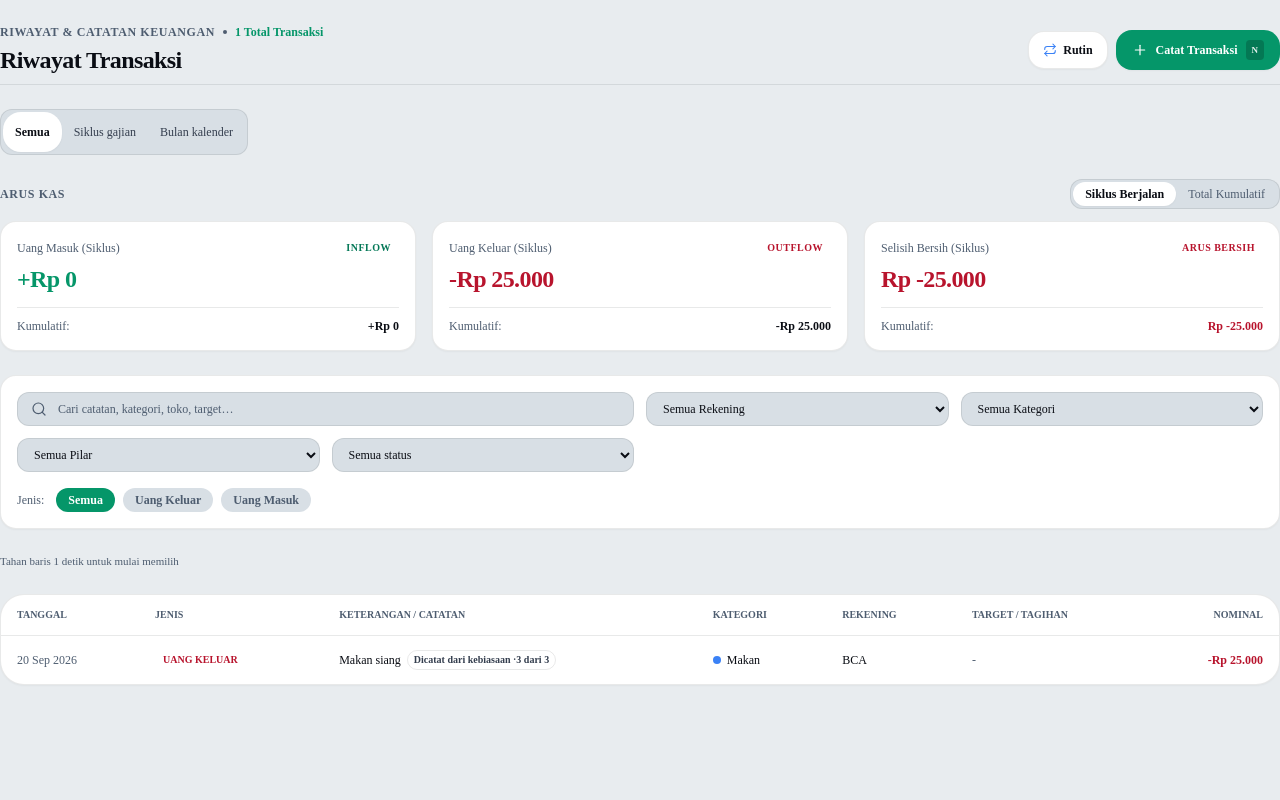
Test: Ledger provenance and reimbursements › labels a habit-recorded row and explains its basis in the dialog
This screenshot has width=1280, height=800.
Check: the text "Dicatat dari kebiasaan · 3 dari 3" is shown, box [407,650,556,670]
Click the row named "Buka atau ubah: Makan siang": (47, 660) [1,635,1279,684]
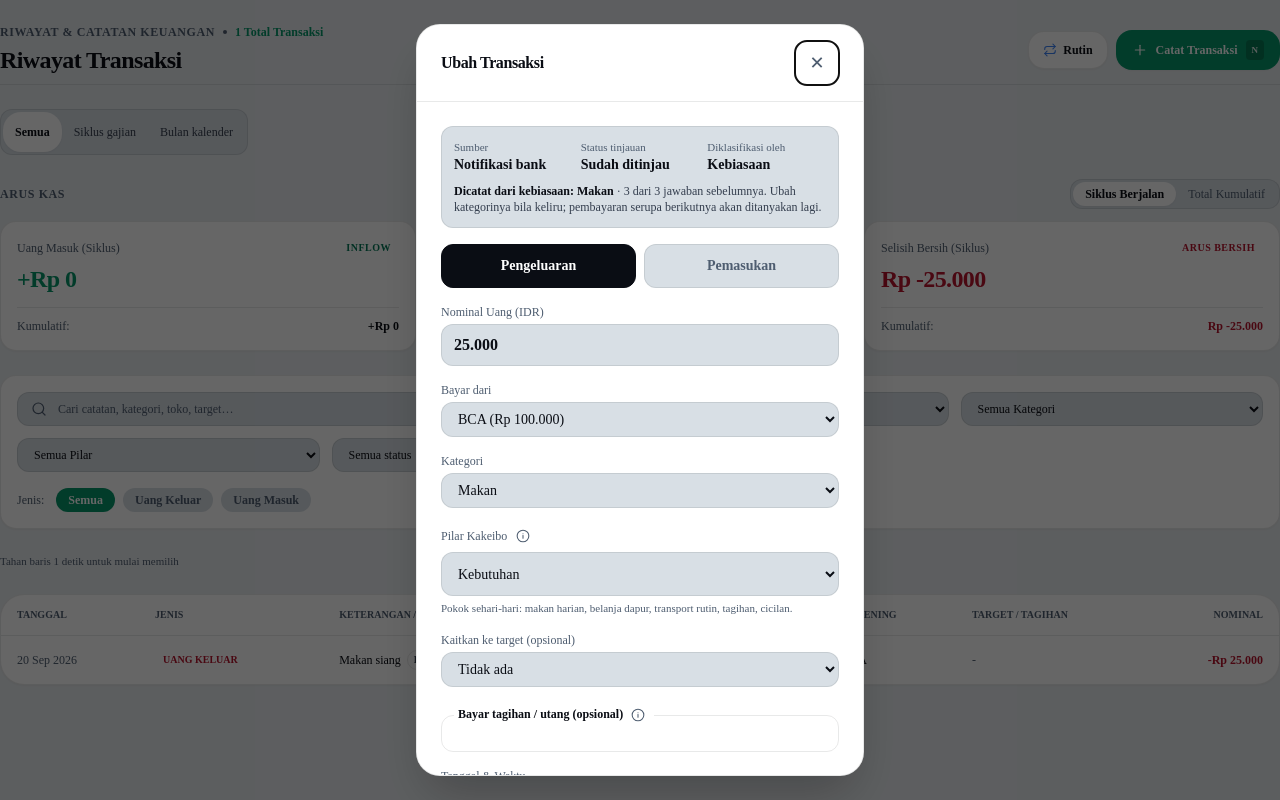
Check: the text "Kebiasaan" is shown, box [707,157,770,172]
Check: the text "Dicatat dari kebiasaan: Makan" is shown, box [454,184,614,198]
Check: the text "3 dari 3 jawaban sebelumnya" is shown, box [624,184,764,198]
